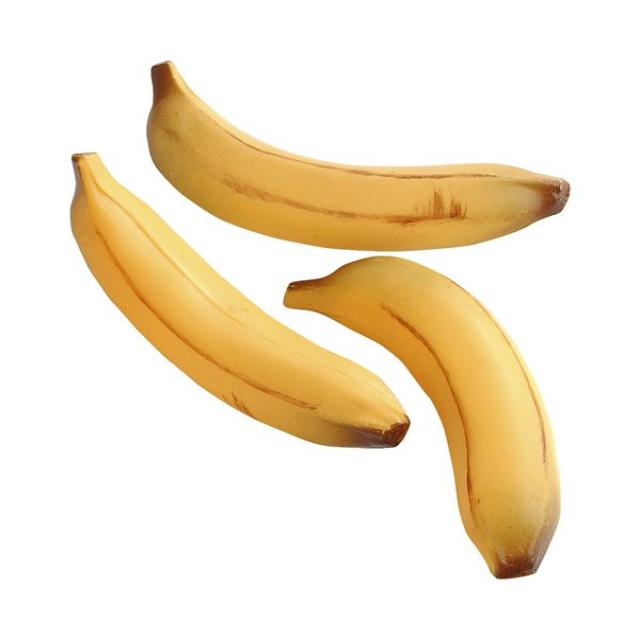banana: (63, 148, 412, 455), (280, 257, 565, 583), (143, 49, 579, 253)
